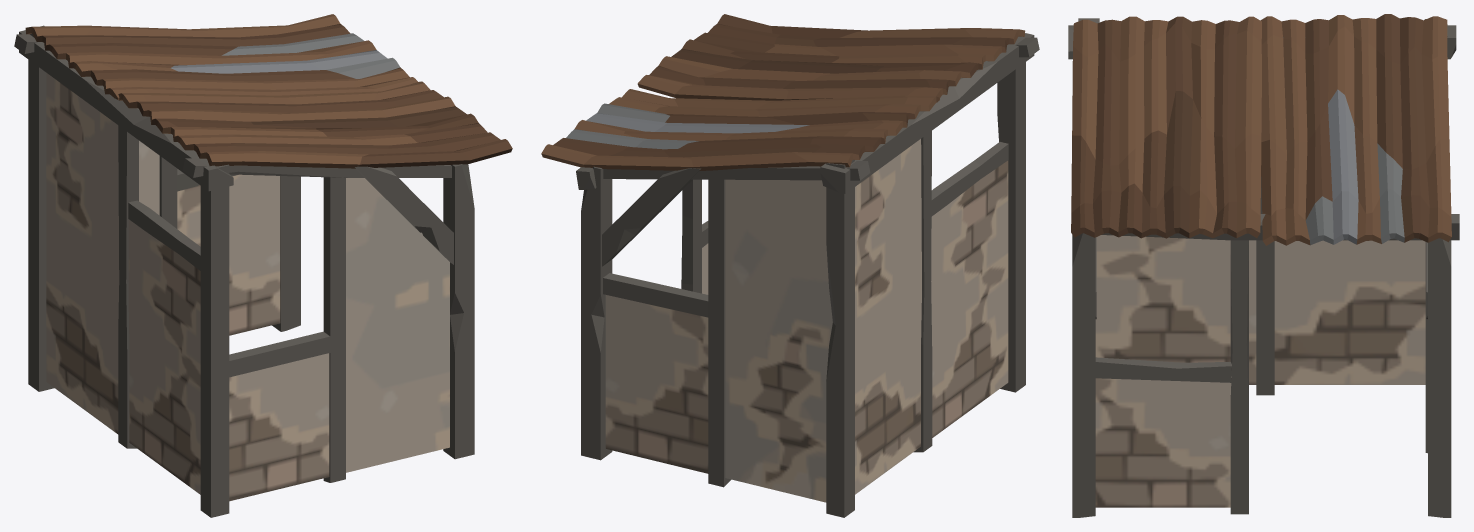
File: SM_Bld_Shack_02.glb
The picture shows the model from 3 angles, left to right: view 1: azimuth 30°, elevation 25°; view 2: azimuth 150°, elevation 25°; view 3: azimuth 270°, elevation 25°; orthographic projection. The views are drawn at different scales.
Visible parts, largest first — view 1: SM_Bld_Shack_02; view 2: SM_Bld_Shack_02; view 3: SM_Bld_Shack_02.
Part boxes in pixels (x1,y1,x2,y2): SM_Bld_Shack_02: (14, 14, 512, 517); SM_Bld_Shack_02: (541, 14, 1039, 517); SM_Bld_Shack_02: (1068, 14, 1459, 517).
Size of the model in its own units: 2.65 by 2.85 by 2.74.
1 material, 1 textured.
